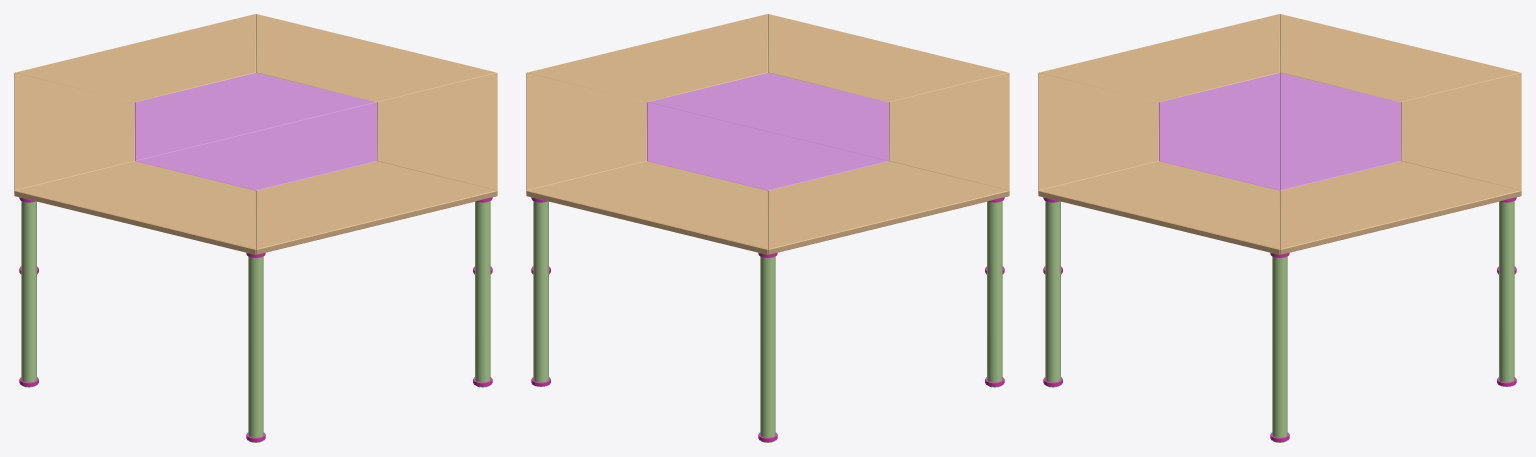
File: mainTable.fbx
3 views of the same model, side by side, from view 1: azimuth 30°, elevation 25°; view 2: azimuth 150°, elevation 25°; view 3: azimuth 270°, elevation 25° (orthographic).
Visible parts, largest first — view 1: mainTable; view 2: mainTable; view 3: mainTable.
Part boxes in pixels (box(x1,y1,x2,y2)): mainTable: box(14, 14, 497, 442); mainTable: box(526, 14, 1009, 442); mainTable: box(1038, 14, 1521, 442).
Size of the model in its own units: 200 by 78.03 by 173.
